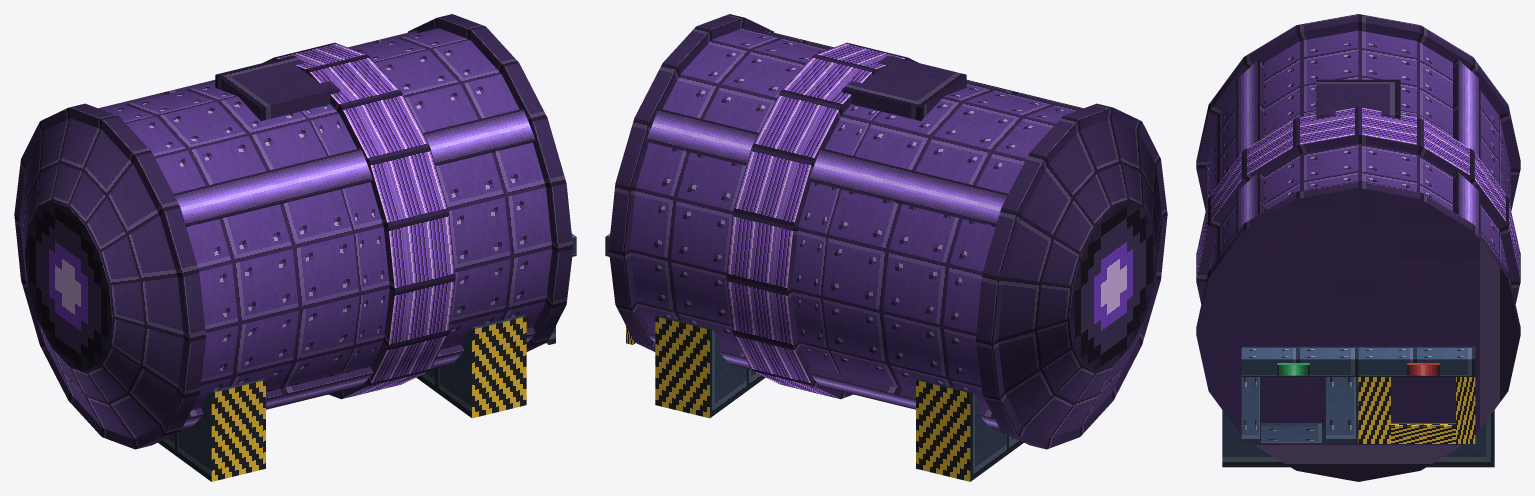
The model's file is stabilizer.obj.
3 views of the same model, side by side, from view 1: azimuth 30°, elevation 25°; view 2: azimuth 150°, elevation 25°; view 3: azimuth 270°, elevation 25° (orthographic). The views are drawn at different scales.
Bounding box in the file's own units: 7.43 × 5 × 5.
